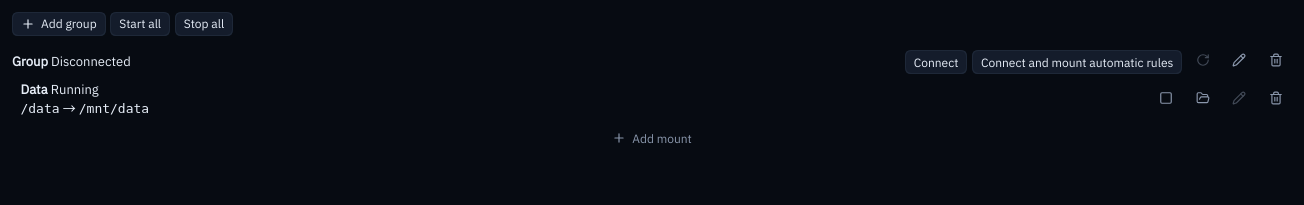
Test: passes the current rule revision and mount instance and refreshes the operation receipt
Click the button named "Unmount": {"x": 1166, "y": 100} [1150,88,1182,112]
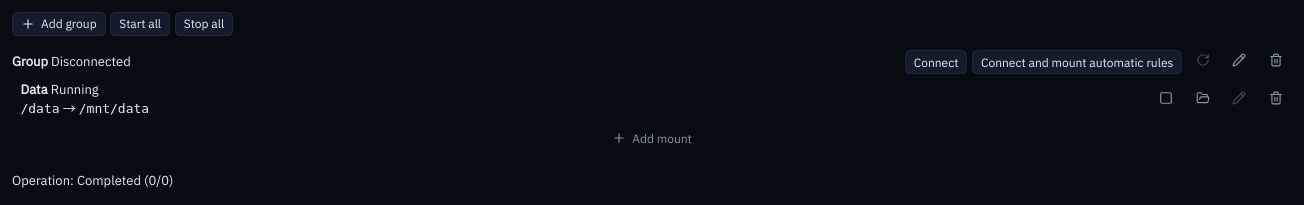
Result: the text "Operation: Completed (0/0)" is shown at [12,172,173,189]
